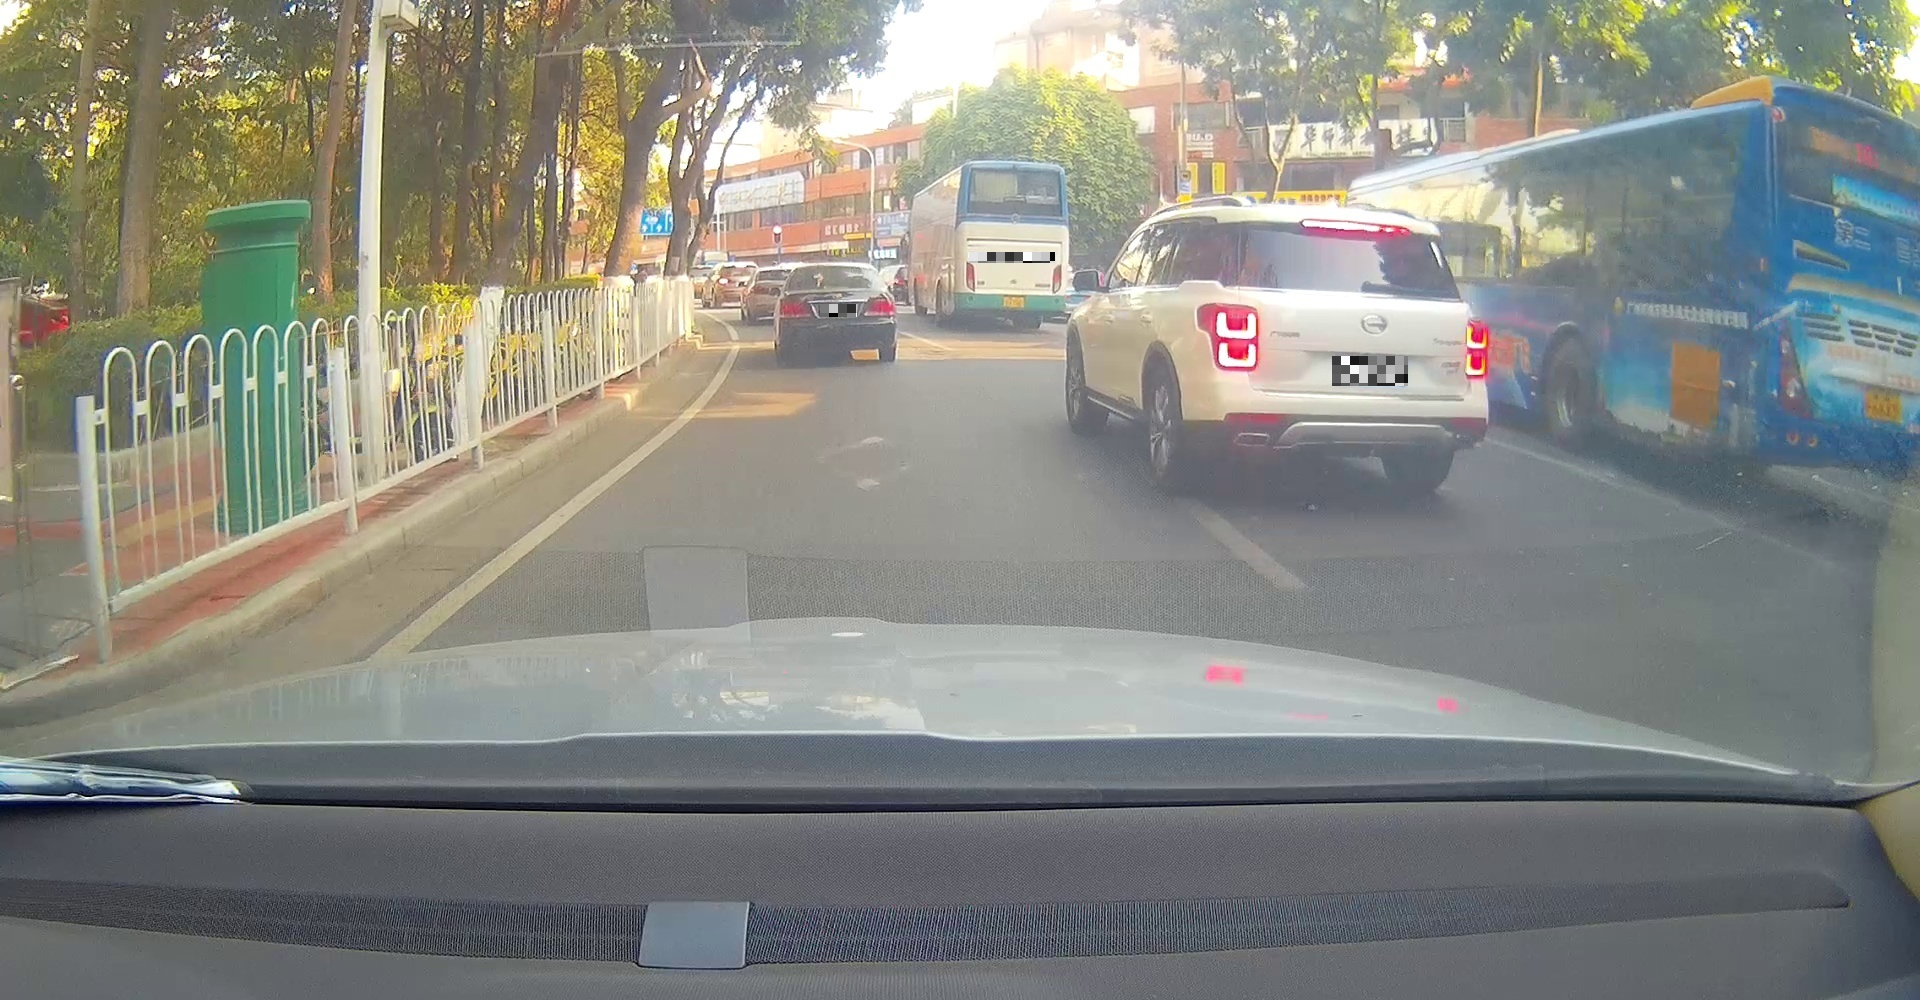L_light: (1194, 302, 1260, 371), (777, 302, 814, 319), (964, 261, 977, 291)
R_light: (1464, 317, 1488, 379), (863, 297, 895, 317), (1051, 264, 1062, 294)
T_light: (1299, 217, 1410, 235), (1002, 195, 1027, 203), (822, 284, 850, 291)
day-brake: (1180, 206, 1490, 492)
day-no: (959, 160, 1069, 330), (776, 261, 898, 362)
plate_1: (820, 305, 857, 317)
plate_2: (969, 253, 1055, 263)
plate_3: (1332, 357, 1408, 386)
